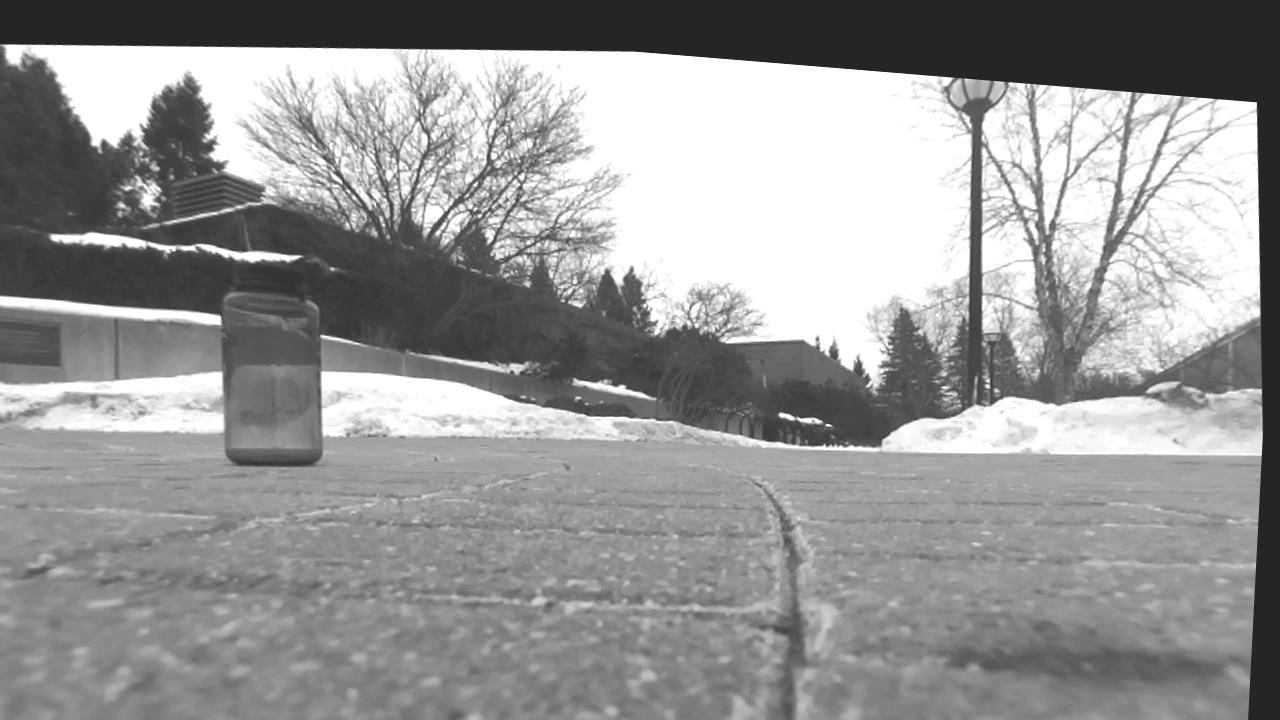bottle: (221, 261, 322, 463)
